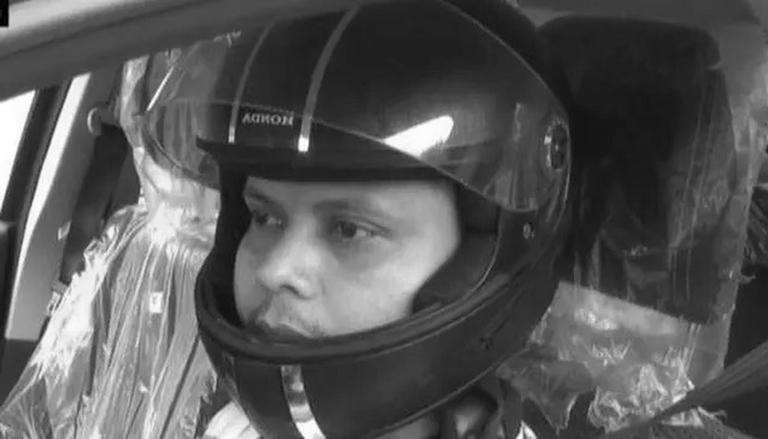Helmet: (148, 0, 582, 439)
